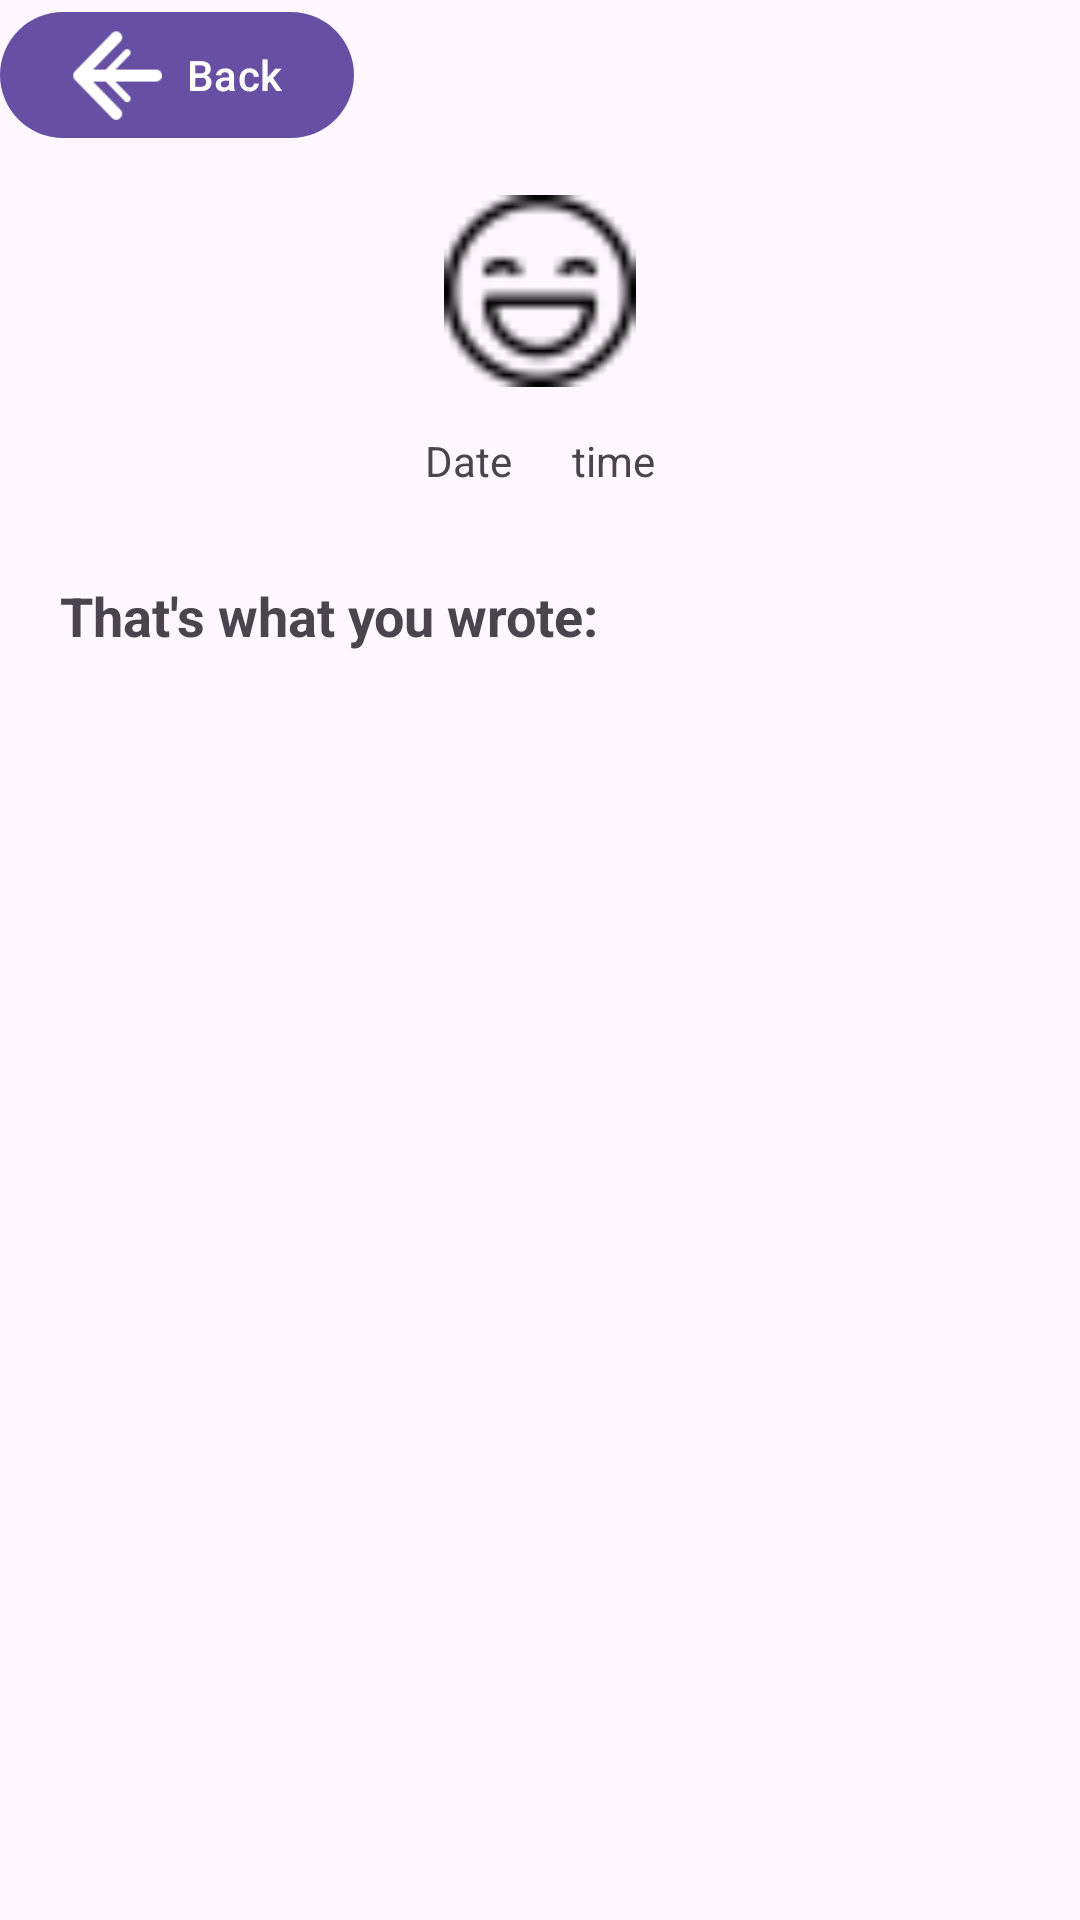

Point at icon controls on the screen. Image size 1080 x 1920, points as point (x, y).
emotion great: point (540, 291)
